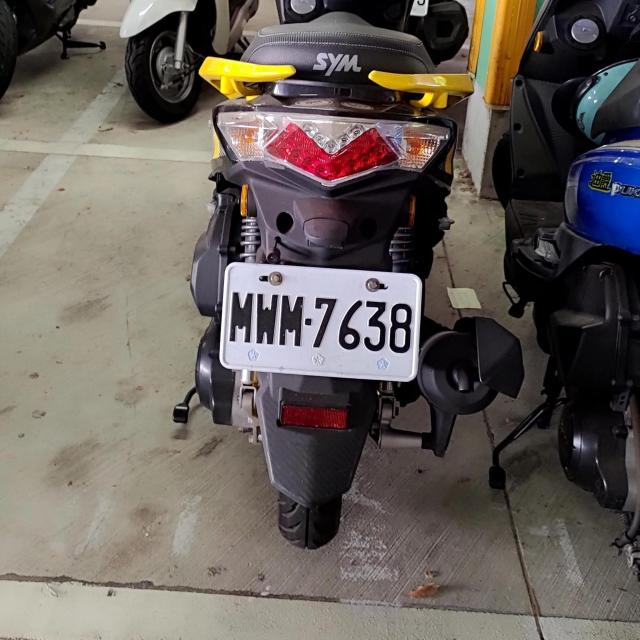W: (218, 260, 421, 378)
